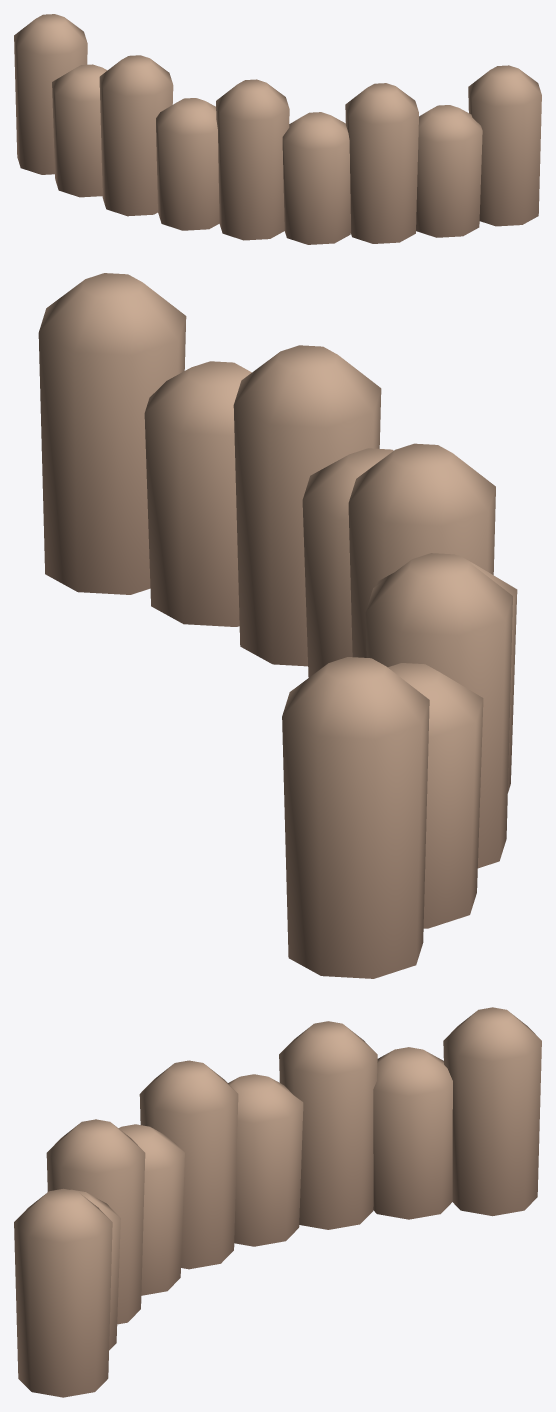
The model's file is flowerbed-fence-corner.glb.
3 renders of one model, top to bottom at view 1: azimuth 30°, elevation 25°; view 2: azimuth 150°, elevation 25°; view 3: azimuth 270°, elevation 25°, orthographic. The views are drawn at different scales.
Visible parts, largest first — view 1: flowerbed-fence-corner; view 2: flowerbed-fence-corner; view 3: flowerbed-fence-corner.
Boxes of the visible parts, <box> form: flowerbed-fence-corner: <box>14,14,541,244</box>; flowerbed-fence-corner: <box>38,273,517,978</box>; flowerbed-fence-corner: <box>14,1007,541,1397</box>.
Bounding box in the file's own units: 0.4804 × 0.182 × 0.4804.
